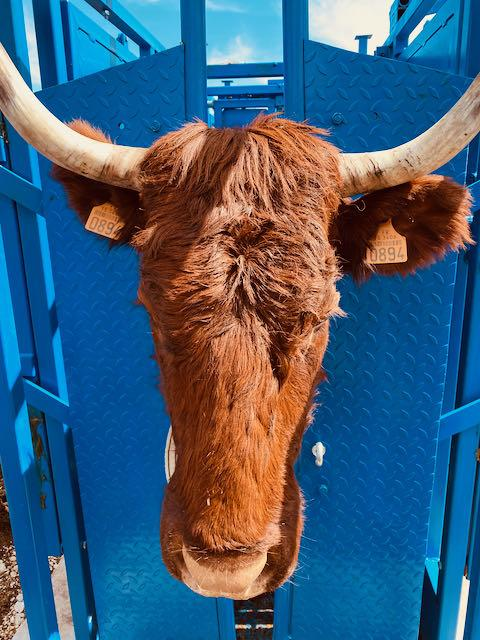muzzles: (154, 533, 300, 608)
